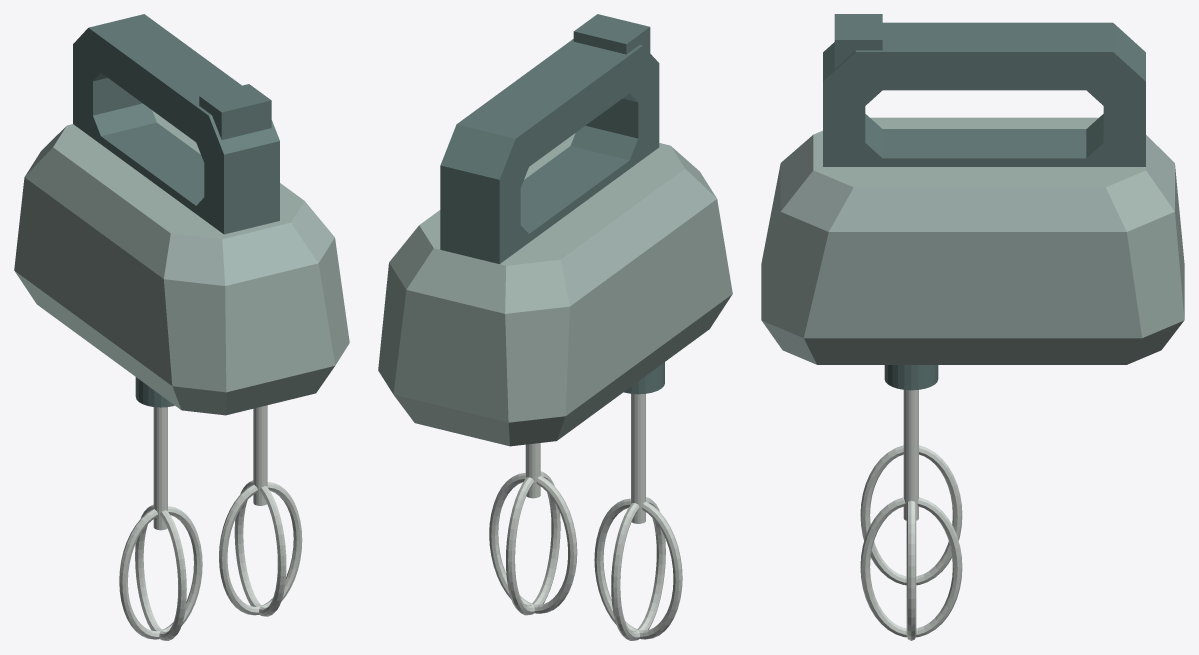
The picture shows the model from 3 angles, left to right: view 1: azimuth 30°, elevation 25°; view 2: azimuth 150°, elevation 25°; view 3: azimuth 270°, elevation 25°; orthographic projection. The views are drawn at different scales.
Visible parts, largest first — view 1: WholeChamferedHorizontalMotorHousing, WholeOpenUpperHandGrip, WholeBlankTopControl, WholeClosedWireLoop_(0, 0), WholeClosedWireLoop_(1, 0), WholeClosedWireLoop_(1, 1), WholeClosedWireLoop_(0, 1), WholeExposedVerticalDriveShaft_0, WholeExposedVerticalDriveShaft_1, WholeLowerDriveCollar_0; view 2: WholeChamferedHorizontalMotorHousing, WholeOpenUpperHandGrip, WholeClosedWireLoop_(1, 0), WholeClosedWireLoop_(0, 0), WholeClosedWireLoop_(0, 1), WholeClosedWireLoop_(1, 1), WholeBlankTopControl, WholeExposedVerticalDriveShaft_0, WholeExposedVerticalDriveShaft_1, WholeLowerDriveCollar_0; view 3: WholeChamferedHorizontalMotorHousing, WholeOpenUpperHandGrip, WholeClosedWireLoop_(1, 1), WholeClosedWireLoop_(0, 1), WholeBlankTopControl, WholeExposedVerticalDriveShaft_1, WholeClosedWireLoop_(1, 0), WholeLowerDriveCollar_1.
Boxes of the visible parts, left/top/right/bottom form: WholeChamferedHorizontalMotorHousing: left=14, top=110, right=349, bottom=415; WholeOpenUpperHandGrip: left=73, top=14, right=279, bottom=234; WholeBlankTopControl: left=199, top=84, right=271, bottom=139; WholeClosedWireLoop_(0, 0): left=119, top=506, right=202, bottom=639; WholeClosedWireLoop_(1, 0): left=219, top=482, right=302, bottom=615; WholeClosedWireLoop_(1, 1): left=234, top=480, right=286, bottom=616; WholeClosedWireLoop_(0, 1): left=135, top=504, right=186, bottom=640; WholeExposedVerticalDriveShaft_0: left=153, top=407, right=167, bottom=530; WholeExposedVerticalDriveShaft_1: left=253, top=405, right=267, bottom=505; WholeLowerDriveCollar_0: left=135, top=377, right=174, bottom=407; WholeChamferedHorizontalMotorHousing: left=378, top=133, right=732, bottom=446; WholeOpenUpperHandGrip: left=440, top=39, right=659, bottom=263; WholeClosedWireLoop_(1, 0): left=489, top=473, right=577, bottom=613; WholeClosedWireLoop_(0, 0): left=594, top=498, right=682, bottom=639; WholeClosedWireLoop_(0, 1): left=611, top=497, right=665, bottom=640; WholeClosedWireLoop_(1, 1): left=506, top=471, right=560, bottom=615; WholeBlankTopControl: left=573, top=14, right=650, bottom=54; WholeExposedVerticalDriveShaft_0: left=631, top=394, right=645, bottom=523; WholeExposedVerticalDriveShaft_1: left=525, top=443, right=540, bottom=498; WholeLowerDriveCollar_0: left=624, top=362, right=664, bottom=394; WholeChamferedHorizontalMotorHousing: left=761, top=117, right=1184, bottom=364; WholeOpenUpperHandGrip: left=823, top=22, right=1145, bottom=166; WholeClosedWireLoop_(1, 1): left=860, top=497, right=962, bottom=637; WholeClosedWireLoop_(0, 1): left=860, top=445, right=962, bottom=585; WholeBlankTopControl: left=834, top=14, right=882, bottom=68; WholeExposedVerticalDriveShaft_1: left=903, top=390, right=918, bottom=520; WholeClosedWireLoop_(1, 0): left=906, top=500, right=916, bottom=640; WholeLowerDriveCollar_1: left=884, top=365, right=938, bottom=390.
Size of the model in its own units: 0.117 by 0.3355 by 0.22.
